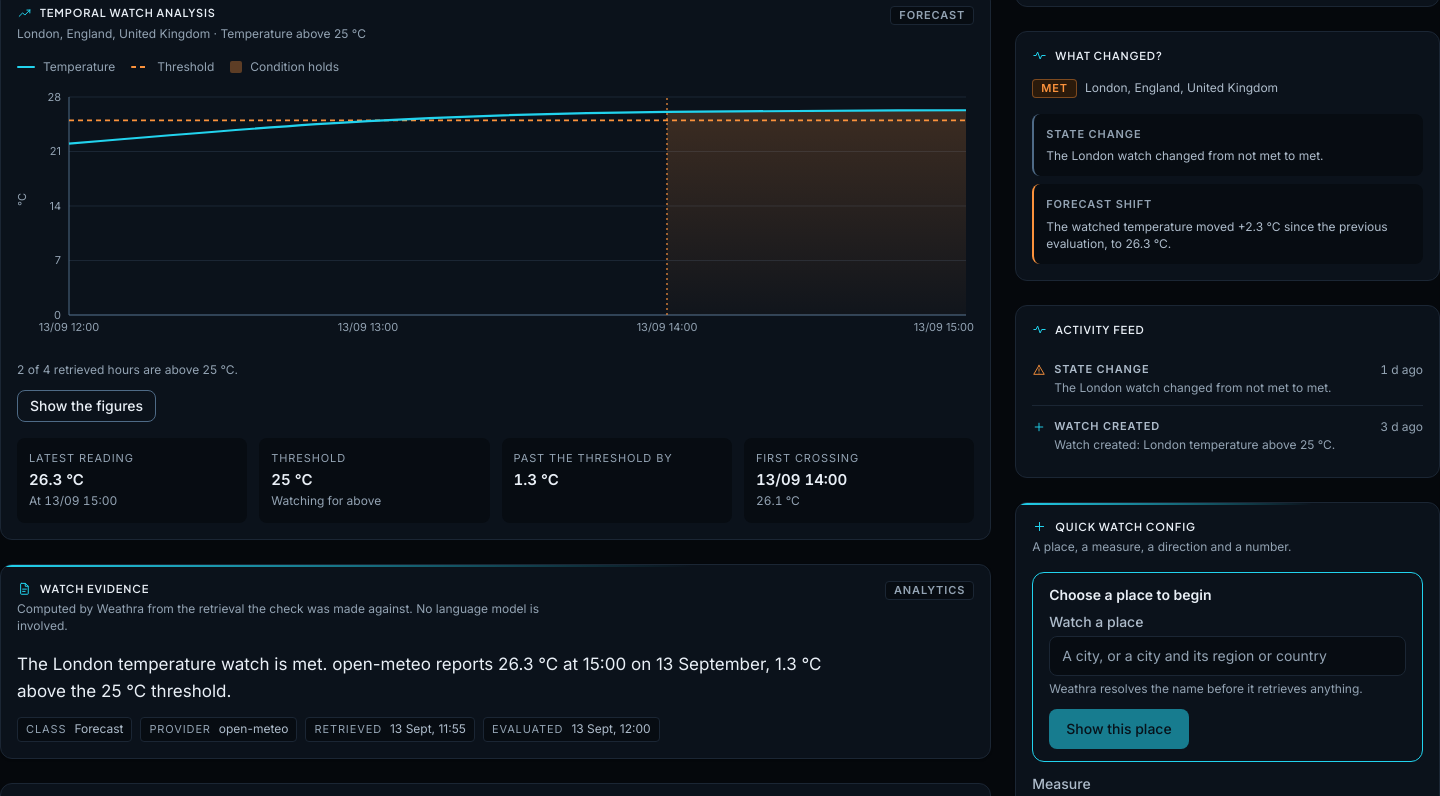
Test: the threshold plot › keeps the plotted figures reachable as a table
The image size is (1440, 796).
(page scrolled)
Expected: the heading "Temporal watch analysis" is shown, [17,6,216,21]
Step 1. Click the button "Show the figures" → {"x": 87, "y": 406}, box [17,390,156,422]
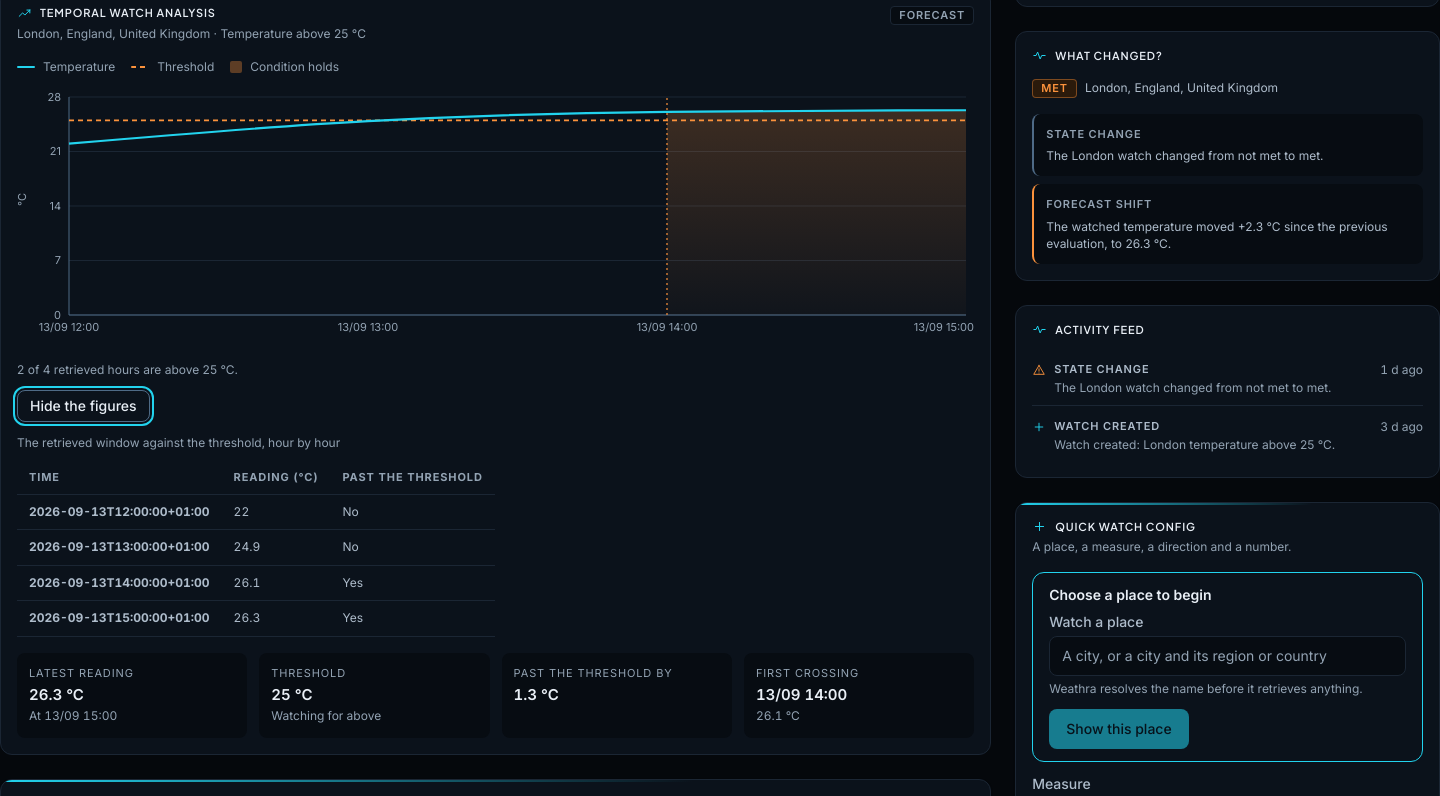
Result: the text "Yes" is shown 2 times at [330,565,495,601]; [330,601,495,636]
Result: the text "No" is shown 2 times at [330,494,495,530]; [330,530,495,565]
